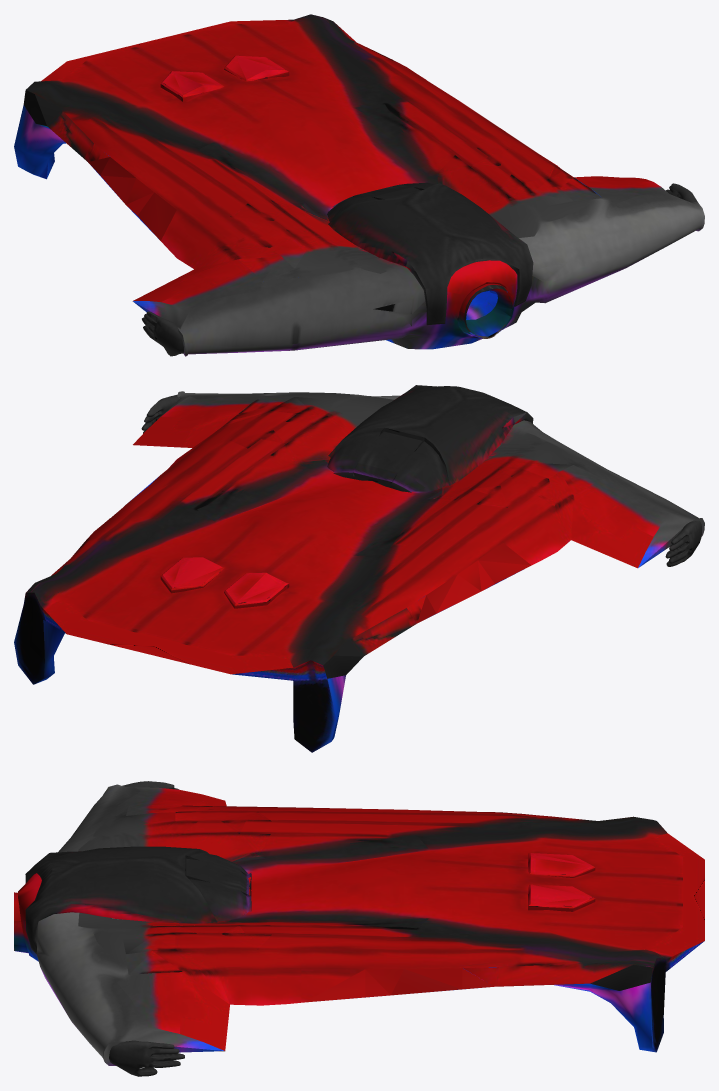
The model's file is WSV9nohead.glb.
The picture shows the model from 3 angles, top to bottom: view 1: azimuth 30°, elevation 25°; view 2: azimuth 150°, elevation 25°; view 3: azimuth 270°, elevation 25°; orthographic projection.
Parts seen in each view (by area): view 1: WS_V3; view 2: WS_V3; view 3: WS_V3.
Part boxes in pixels (left/top/right/bottom): WS_V3: left=14, top=14, right=704, bottom=356; WS_V3: left=14, top=385, right=704, bottom=752; WS_V3: left=14, top=781, right=704, bottom=1076.
Bounding box in the file's own units: 2.82 × 0.6055 × 3.1.
1 material, 1 textured.
